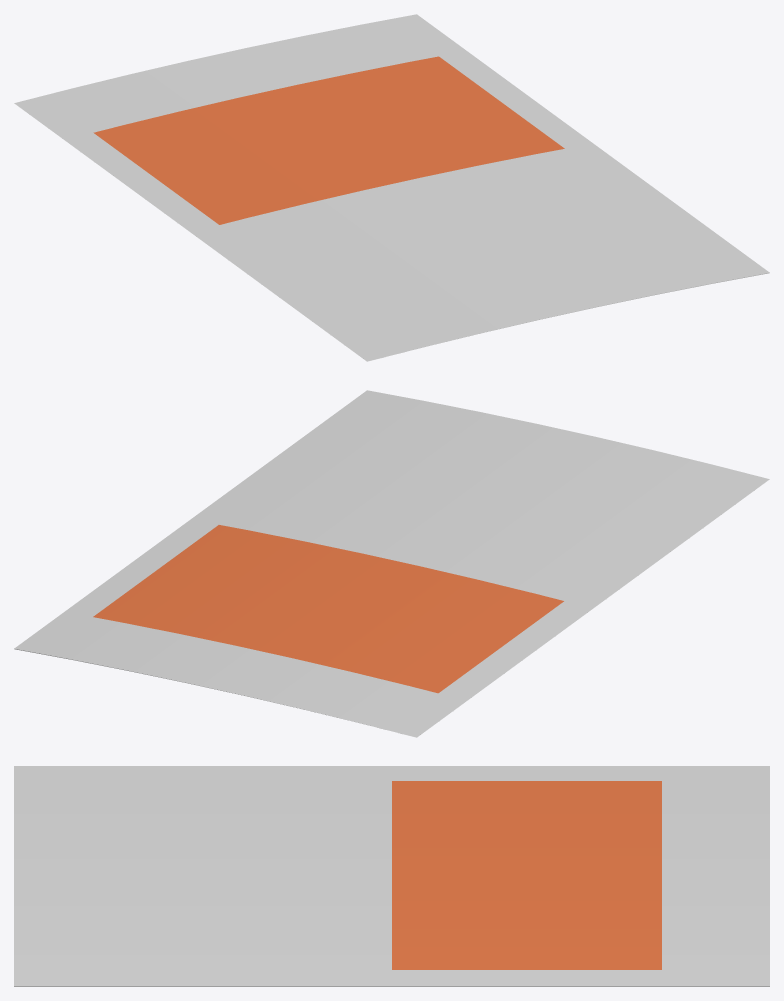
File: Comic_Page_2_V3.fbx
3 renders of one model, top to bottom at view 1: azimuth 30°, elevation 25°; view 2: azimuth 150°, elevation 25°; view 3: azimuth 270°, elevation 25°, orthographic. The views are drawn at different scales.
Visible parts, largest first — view 1: Book_Page_1_V4; view 2: Book_Page_1_V4; view 3: Book_Page_1_V4.
Boxes of the visible parts, x1,y1,x2,y2 form: Book_Page_1_V4: (14,14,769,361); Book_Page_1_V4: (14,390,769,737); Book_Page_1_V4: (14,766,769,986).
Bounding box in the file's own units: 101 × 2.47 × 153.
